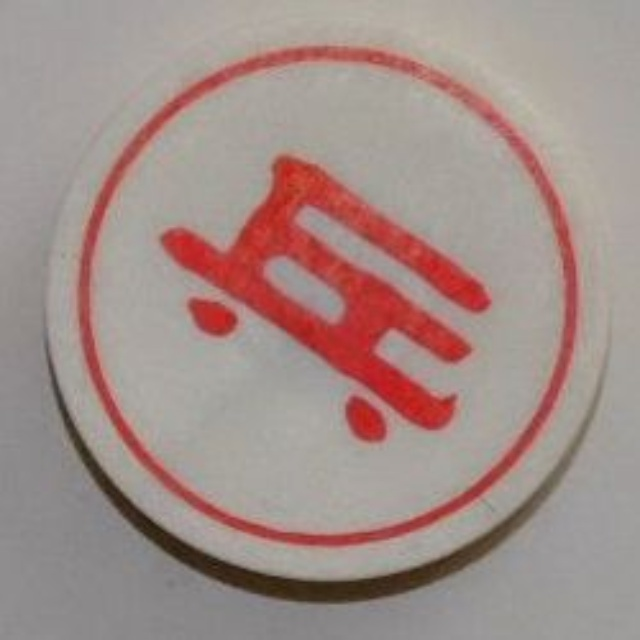red_chot: (39, 14, 624, 584)
